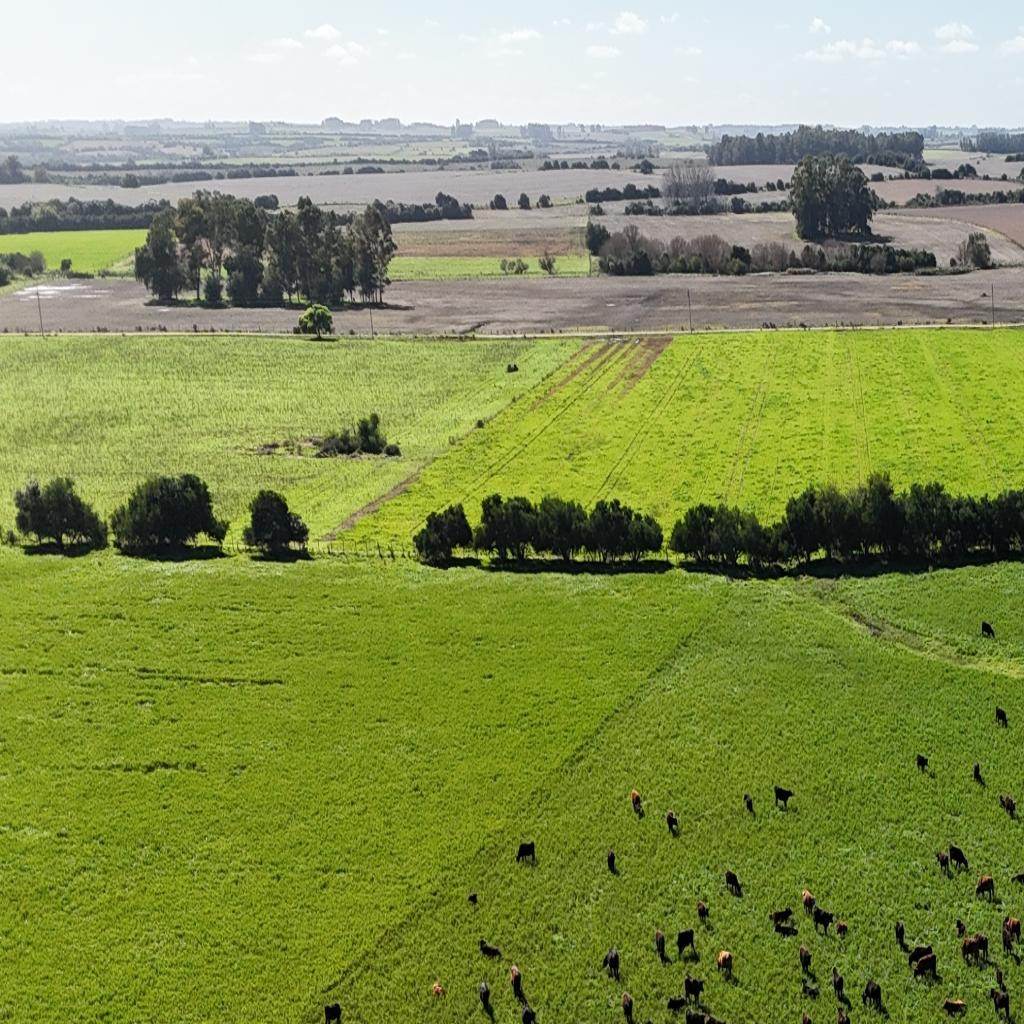cow: (962, 933, 988, 967), (913, 951, 939, 983), (990, 988, 1011, 1021), (812, 906, 834, 936), (684, 973, 704, 1006), (863, 978, 882, 1010), (676, 928, 695, 960), (949, 843, 969, 873), (908, 944, 932, 968), (602, 947, 619, 980), (1002, 924, 1019, 956), (774, 784, 794, 811), (976, 876, 996, 902), (479, 939, 501, 960), (943, 997, 966, 1017), (770, 908, 792, 928), (516, 841, 535, 864), (717, 949, 732, 978), (725, 870, 741, 896), (836, 984, 852, 1010), (622, 990, 634, 1024), (324, 1002, 342, 1024), (799, 943, 812, 973), (654, 928, 666, 960), (774, 922, 798, 938), (666, 995, 686, 1014), (685, 1006, 706, 1024), (832, 965, 843, 999), (936, 850, 950, 876), (802, 889, 816, 915), (802, 981, 820, 1001), (1000, 794, 1016, 816), (510, 963, 521, 993), (479, 980, 490, 1008), (697, 900, 709, 924), (666, 810, 678, 834), (973, 762, 985, 785), (894, 920, 904, 947), (431, 981, 446, 999), (631, 789, 642, 813), (521, 1008, 537, 1024), (996, 707, 1008, 728), (982, 621, 995, 640), (1014, 916, 1024, 940), (916, 754, 929, 772), (996, 966, 1006, 988), (836, 920, 848, 938), (1014, 947, 1024, 967), (837, 1009, 850, 1024), (744, 794, 754, 813), (880, 1005, 891, 1022), (957, 918, 966, 938), (608, 850, 616, 872), (705, 1015, 723, 1024), (1013, 1011, 1024, 1024), (802, 1011, 812, 1024), (467, 893, 477, 905), (1016, 872, 1024, 885), (644, 1018, 653, 1024)
